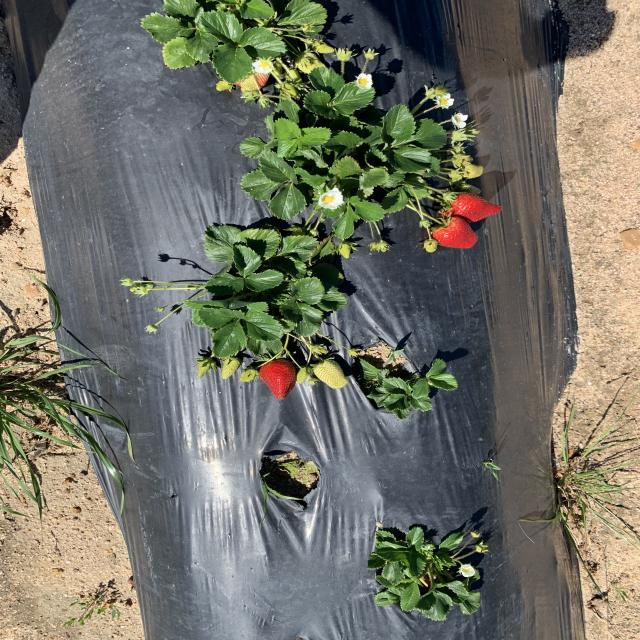unripe: (442, 190, 502, 223), (431, 217, 478, 250), (259, 361, 298, 399)
